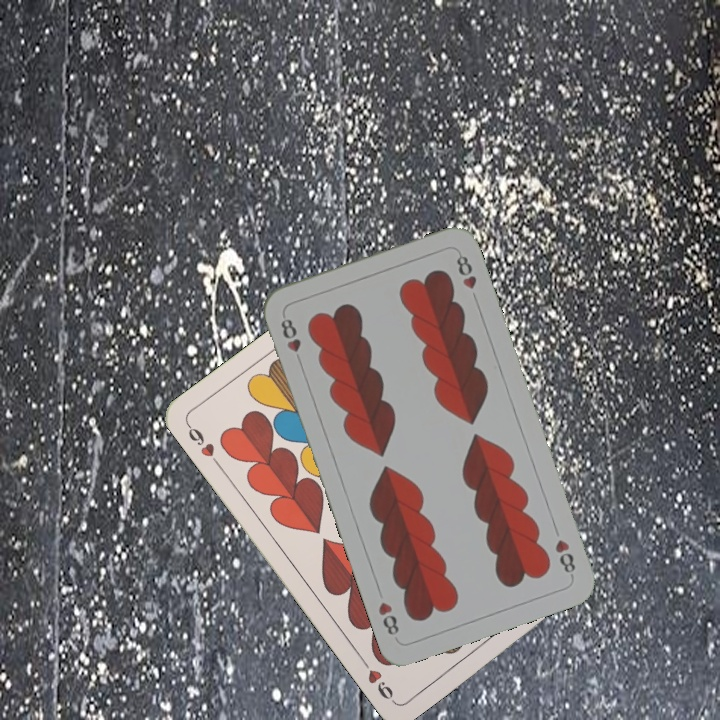H8: (551, 535, 578, 580), (276, 314, 304, 355)
H9: (183, 420, 224, 470)
